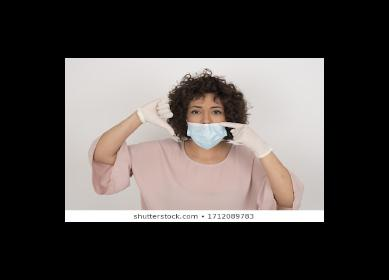mask_weared_incorrect: (188, 105, 225, 148)
